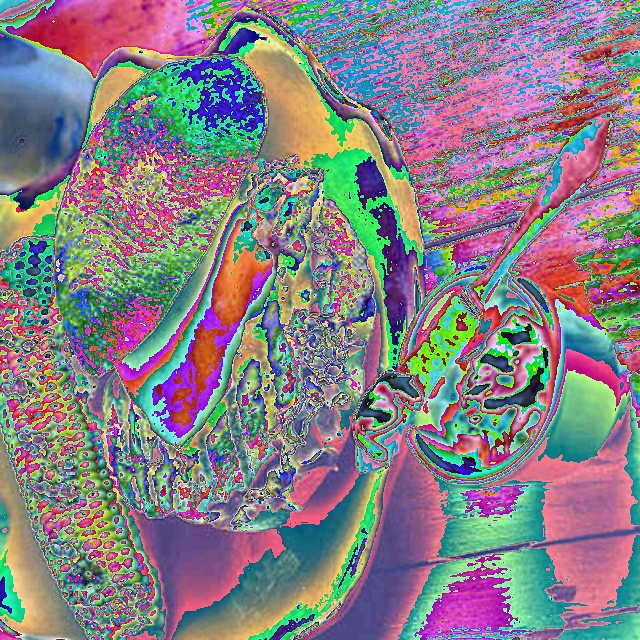background: (0, 55, 551, 639)
